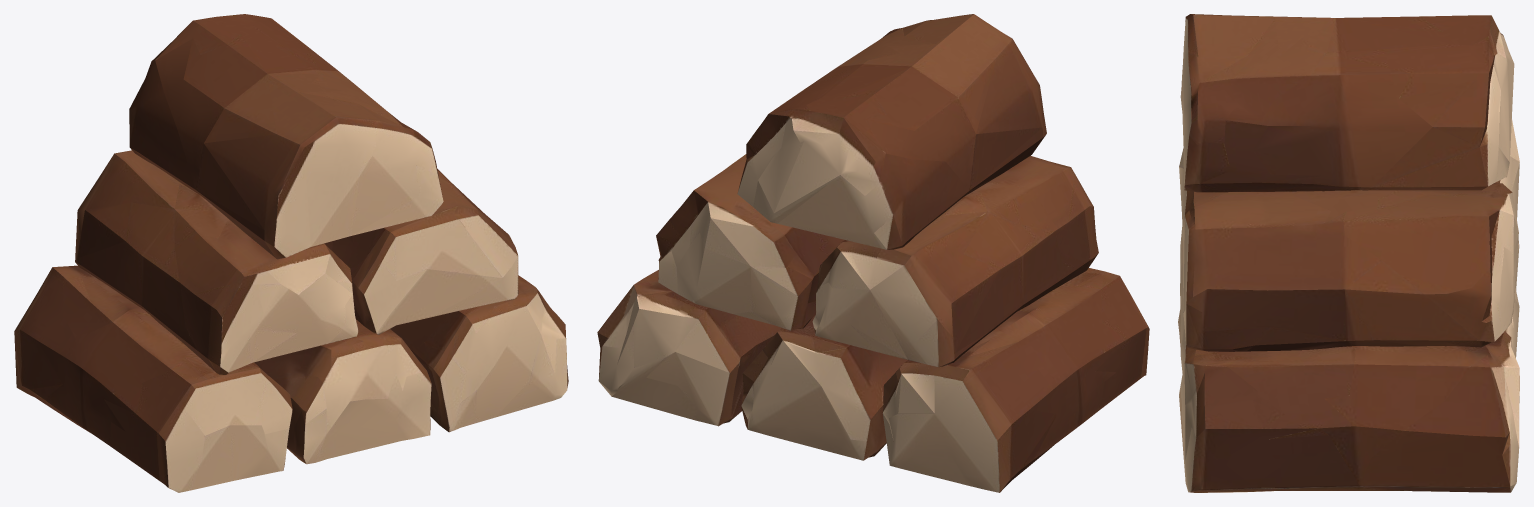
Rendered from firewood.glb.
The picture shows the model from 3 angles, left to right: view 1: azimuth 30°, elevation 25°; view 2: azimuth 150°, elevation 25°; view 3: azimuth 270°, elevation 25°; orthographic projection. The views are drawn at different scales.
Parts seen in each view (by area): view 1: Mesh_0; view 2: Mesh_0; view 3: Mesh_0.
Boxes of the visible parts, bbox=[...] form: Mesh_0: bbox=[14, 14, 568, 492]; Mesh_0: bbox=[597, 14, 1149, 492]; Mesh_0: bbox=[1178, 14, 1519, 492].
Size of the model in its own units: 2 by 1.56 by 1.31.
Materials: 1 (1 with a texture image).
